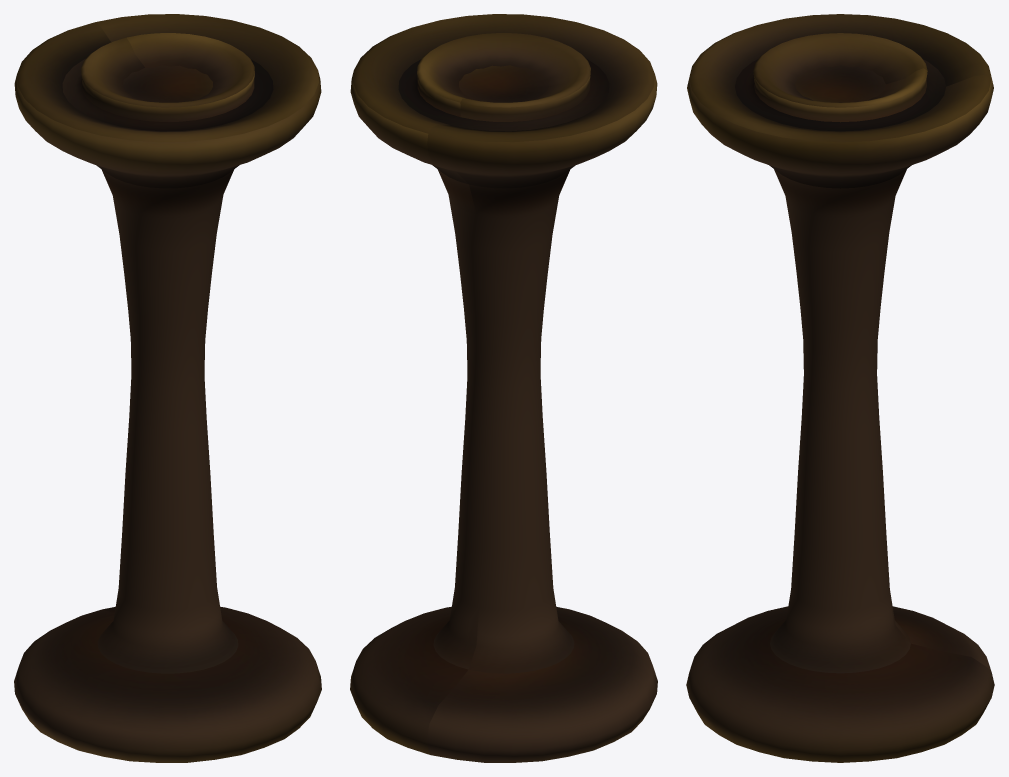
Rendered from Candlestick.fbx.
3 renders of one model, left to right at view 1: azimuth 30°, elevation 25°; view 2: azimuth 150°, elevation 25°; view 3: azimuth 270°, elevation 25°, orthographic.
Visible parts, largest first — view 1: Candlestick1; view 2: Candlestick1; view 3: Candlestick1.
Boxes of the visible parts, x1,y1,x2,y2 form: Candlestick1: [14, 14, 321, 762]; Candlestick1: [350, 14, 657, 762]; Candlestick1: [686, 14, 994, 762].
Size of the model in its own units: 212 by 492 by 212.
Materials: 1 (1 with a texture image).
